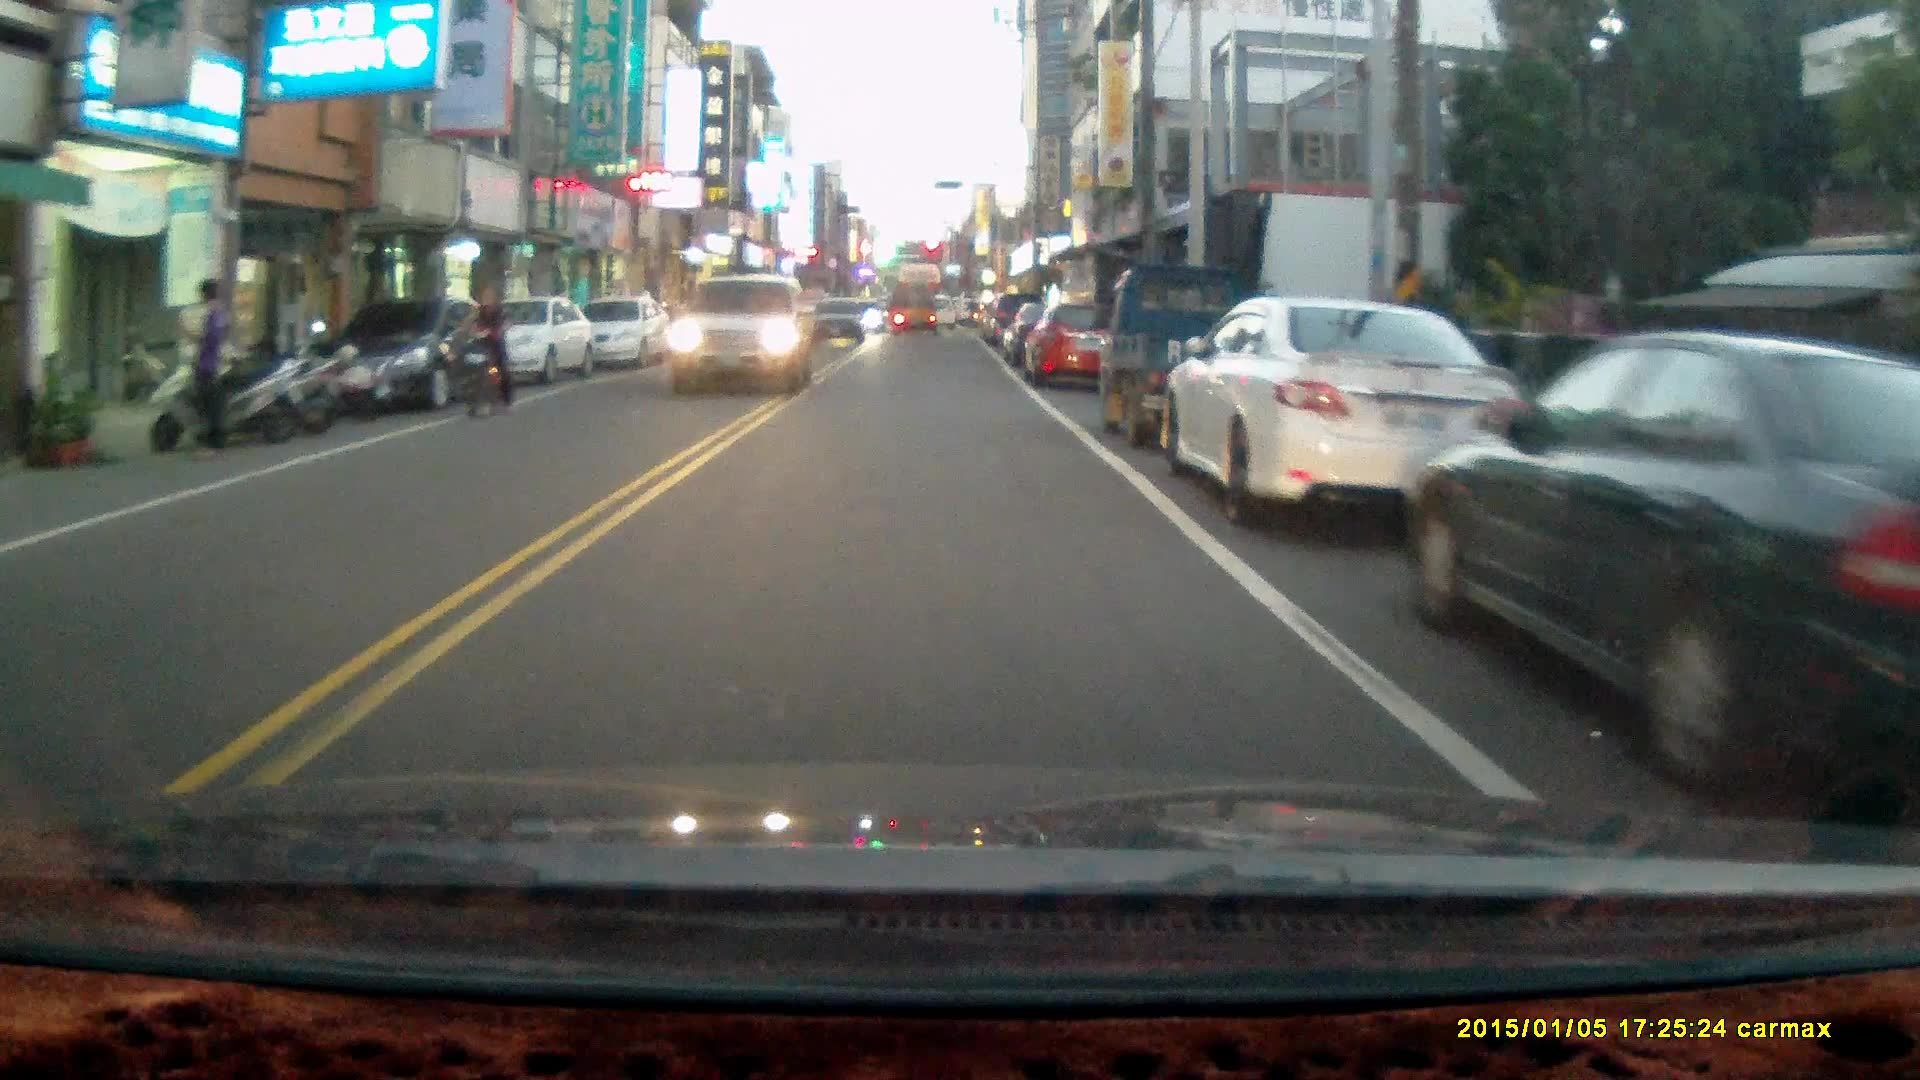pedestrian: (175, 274, 228, 461)
rider: (459, 283, 514, 418)
vehicle: (1408, 325, 1920, 798), (1161, 295, 1533, 524), (1096, 260, 1283, 456), (306, 285, 501, 408), (661, 276, 815, 393), (1026, 299, 1123, 391), (569, 298, 671, 368), (806, 297, 869, 347), (889, 281, 942, 338)
